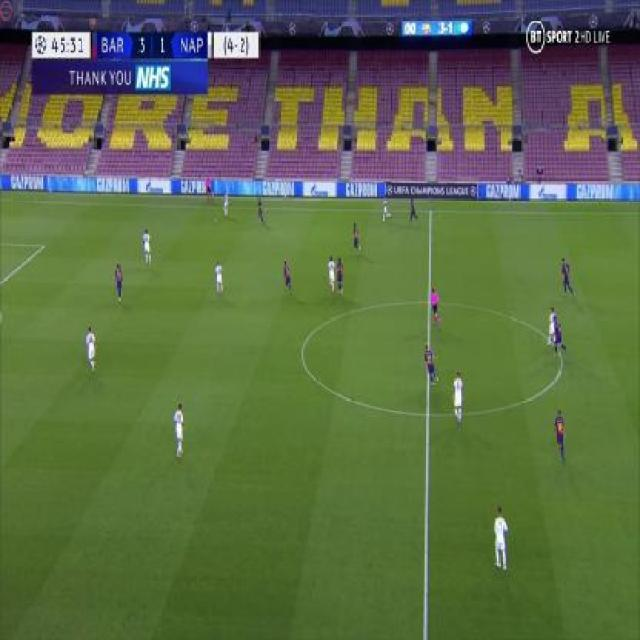ball: (213, 217, 218, 223)
player: (493, 503, 510, 572), (171, 399, 187, 458), (552, 408, 568, 462), (451, 367, 465, 424), (553, 309, 569, 354), (423, 345, 440, 387), (559, 257, 575, 299), (85, 322, 98, 373), (429, 286, 442, 329), (546, 307, 557, 349), (113, 260, 124, 300), (326, 254, 337, 294), (213, 258, 224, 298), (142, 226, 153, 265), (282, 259, 293, 296), (408, 194, 421, 225), (350, 220, 361, 256), (336, 253, 344, 296), (381, 191, 392, 220), (206, 174, 215, 207), (222, 184, 230, 217), (257, 196, 266, 225)
